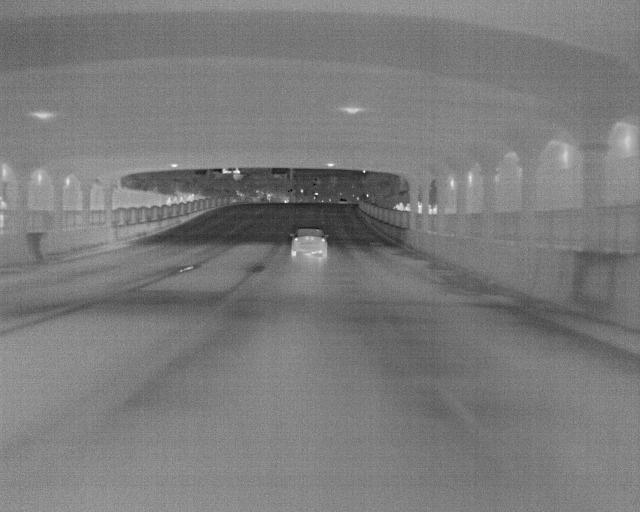car: (289, 226, 329, 260)
